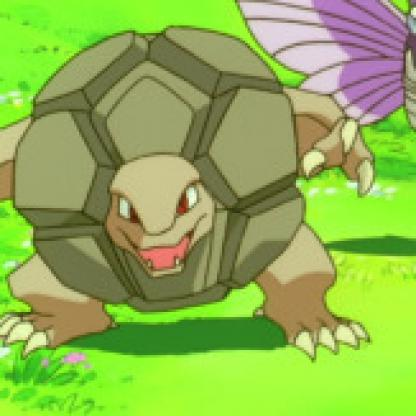Golem: (1, 31, 381, 366)
